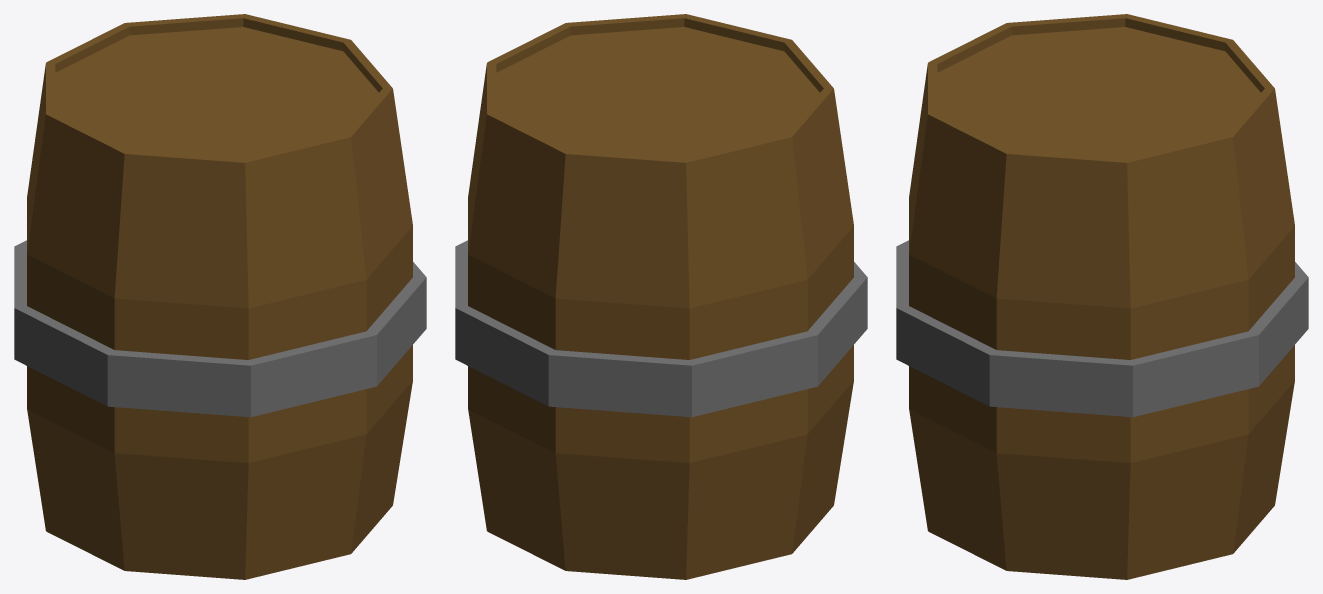
File: Barril.fbx
The picture shows the model from 3 angles, left to right: view 1: azimuth 30°, elevation 25°; view 2: azimuth 150°, elevation 25°; view 3: azimuth 270°, elevation 25°; orthographic projection.
Parts seen in each view (by area): view 1: Cilindro; view 2: Cilindro; view 3: Cilindro.
Part boxes in pixels (x1,y1,x2,y2): Cilindro: [14, 14, 426, 579]; Cilindro: [455, 14, 867, 579]; Cilindro: [896, 14, 1308, 579].
Bounding box in the file's own units: 234 × 257 × 230.
